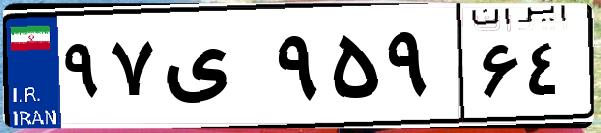4: (525, 38, 570, 115)
5: (330, 28, 385, 110)
6: (475, 38, 525, 113)
7: (110, 28, 158, 98)
9: (270, 28, 330, 110), (385, 28, 445, 110), (57, 26, 110, 100)
ی: (158, 20, 270, 120)
